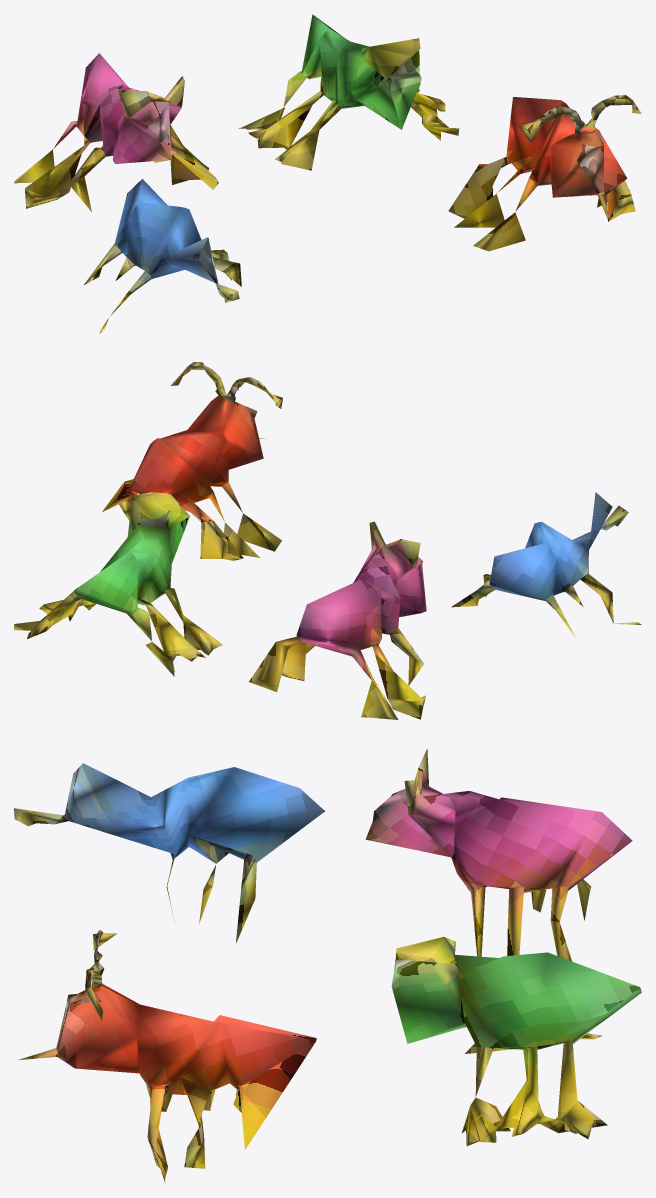
Rendered from Cootie_Game-low.glb.
3 views of the same model, one above another, from view 1: azimuth 30°, elevation 25°; view 2: azimuth 150°, elevation 25°; view 3: azimuth 270°, elevation 25° (orthographic). The views are drawn at different scales.
Visible parts, largest first — view 1: Cootie_Game; view 2: Cootie_Game; view 3: Cootie_Game.
Boxes of the visible parts, <box> form: Cootie_Game: <box>14,14,641,333</box>; Cootie_Game: <box>14,362,641,719</box>; Cootie_Game: <box>14,749,641,1183</box>.
Size of the model in its own units: 0.328 by 0.0871 by 0.2625.
1 material, 1 textured.
